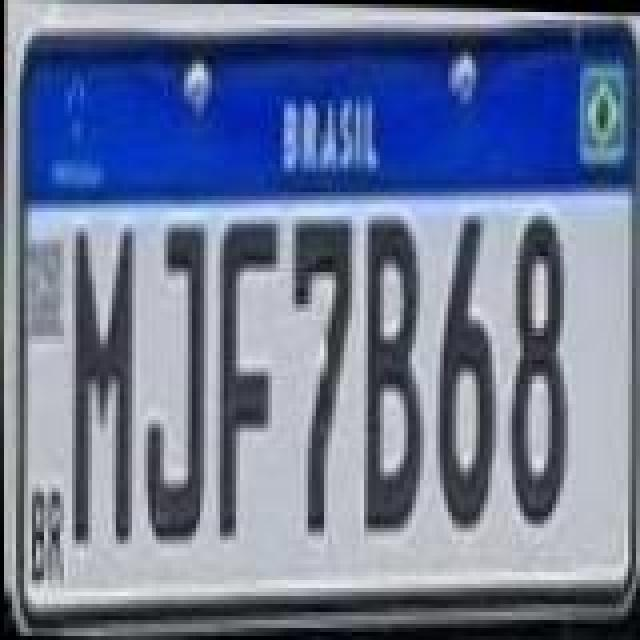6: (432, 210, 500, 526)
7: (290, 218, 354, 534)
8: (506, 208, 570, 524)
B: (360, 212, 428, 536)
F: (214, 218, 282, 542)
J: (144, 222, 208, 546)
M: (66, 224, 134, 548)
